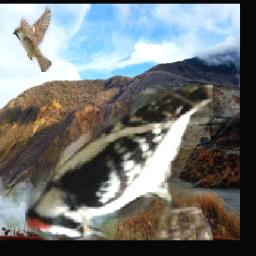Sparrow: (12, 6, 52, 72)
Woodpecker: (25, 85, 213, 240)
